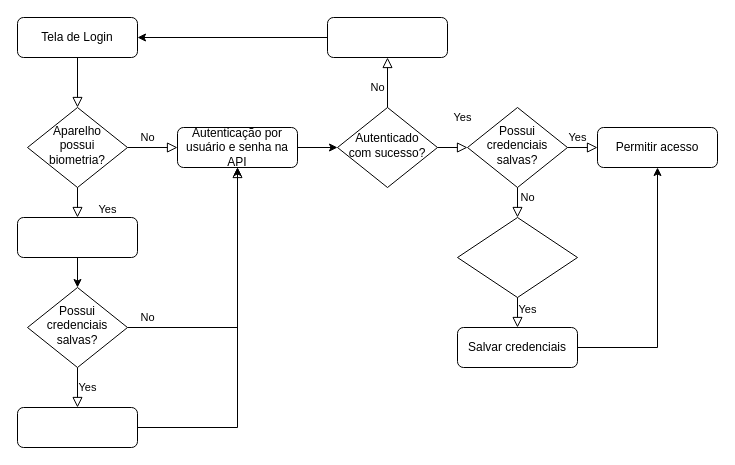
The diagram is 735 pixels wide and 465 high, and some of its shapes have lost their labels. The shapes that lost their labels are listed below. From the top down, each one's centre as x and y in pixels, then its label:
the point at 387,37: Apagar credenciais salvas
the point at 77,237: Mostrar switch "utilizar biometria" memorizado
the point at 517,257: "utilizar biometria" selecionado?
the point at 77,427: Esconder campos "usuario" e "senha"
